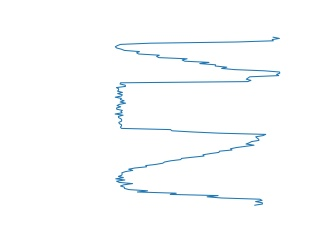distributaryChannelFill: (109, 71, 271, 142)
mouthBar: (113, 34, 285, 75)
underwaterDistributaryChannel: (111, 135, 264, 209)
